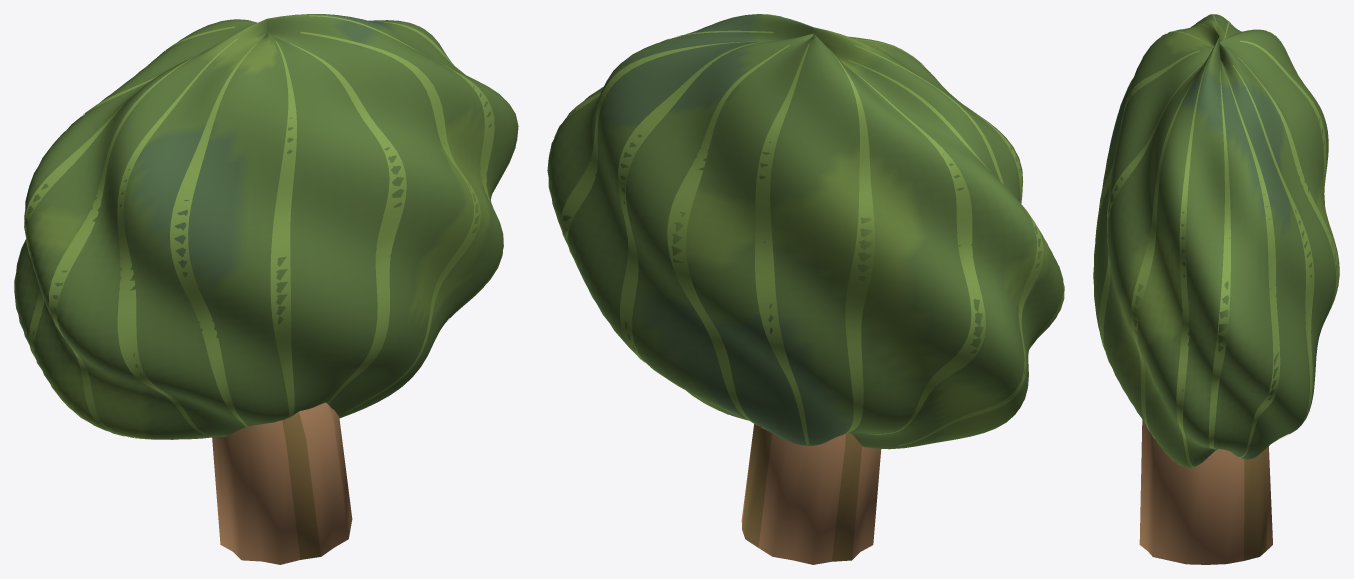
The model's file is tree02.glb.
The picture shows the model from 3 angles, left to right: view 1: azimuth 30°, elevation 25°; view 2: azimuth 150°, elevation 25°; view 3: azimuth 270°, elevation 25°; orthographic projection. The views are drawn at different scales.
Visible parts, largest first — view 1: Broad green canopy, Tapered short patterned trunk, Long olive canopy marking.011, Long olive canopy marking.010, Long olive canopy marking.012, Long olive canopy marking.009, Long olive canopy marking.008, Long olive canopy marking.013, Long olive canopy marking.007, Long olive canopy marking.014; view 2: Broad green canopy, Tapered short patterned trunk, Long olive canopy marking.004, Long olive canopy marking.005, Long olive canopy marking.003, Long olive canopy marking.006, Long olive canopy marking.002, Long olive canopy marking.001, Long olive canopy marking.007, Long olive canopy marking.008; view 3: Broad green canopy, Tapered short patterned trunk, Long olive canopy marking, Long olive canopy marking.014, Long olive canopy marking.001, Long olive canopy marking.013, Long olive canopy marking.002, Long olive canopy marking.012, Long olive canopy marking.003, Long olive canopy marking.004, Long olive canopy marking.011.
Part boxes in pixels (box(x1,y1,x2,y2)): Broad green canopy: box(14, 14, 517, 439); Tapered short patterned trunk: box(212, 402, 352, 564); Long olive canopy marking.011: box(270, 41, 296, 417); Long olive canopy marking.010: box(170, 43, 256, 427); Long olive canopy marking.012: box(290, 43, 406, 404); Long olive canopy marking.009: box(117, 38, 237, 435); Long olive canopy marking.008: box(48, 43, 218, 439); Long olive canopy marking.013: box(300, 31, 480, 412); Long olive canopy marking.007: box(24, 82, 149, 367); Long olive canopy marking.014: box(309, 15, 503, 321); Broad green canopy: box(547, 14, 1064, 449); Tapered short patterned trunk: box(741, 424, 881, 564); Long olive canopy marking.004: box(755, 44, 809, 444); Long olive canopy marking.005: box(829, 49, 874, 434); Long olive canopy marking.003: box(667, 44, 790, 428); Long olive canopy marking.006: box(846, 66, 985, 434); Long olive canopy marking.002: box(618, 40, 774, 414); Long olive canopy marking.001: box(560, 41, 753, 256); Long olive canopy marking.007: box(848, 59, 1043, 445); Long olive canopy marking.008: box(855, 45, 1064, 347); Broad green canopy: box(1093, 14, 1339, 467); Tapered short patterned trunk: box(1139, 420, 1272, 564); Long olive canopy marking: box(1208, 70, 1230, 450); Long olive canopy marking.014: box(1176, 56, 1209, 467); Long olive canopy marking.001: box(1226, 75, 1280, 457); Long olive canopy marking.013: box(1130, 75, 1196, 438); Long olive canopy marking.002: box(1233, 65, 1314, 441); Long olive canopy marking.012: box(1099, 64, 1201, 364); Long olive canopy marking.003: box(1238, 57, 1338, 322); Long olive canopy marking.004: box(1239, 40, 1326, 204); Long olive canopy marking.011: box(1096, 50, 1199, 231).
Bounding box in the file's own units: 0.9906 × 1 × 0.4388.
